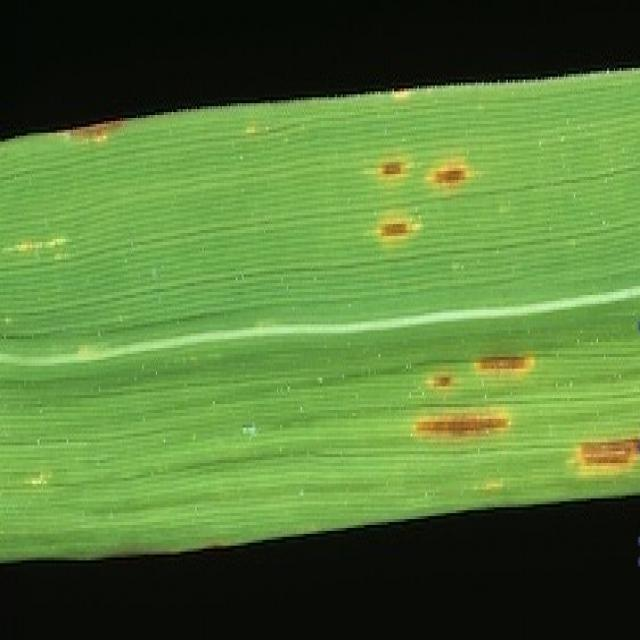Leafsmut: (414, 411, 514, 437), (2, 236, 72, 262), (576, 437, 640, 464), (429, 158, 475, 190), (68, 120, 126, 143), (475, 354, 536, 374), (74, 342, 114, 361), (380, 222, 411, 237), (380, 161, 406, 176), (245, 122, 271, 136), (478, 478, 503, 491), (392, 88, 412, 102), (102, 116, 128, 125), (49, 237, 69, 248), (433, 376, 452, 387), (58, 131, 72, 140)
